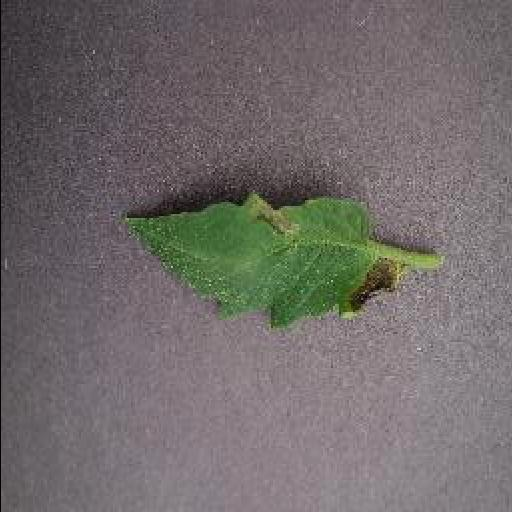disease_tomato: (118, 189, 404, 335)
